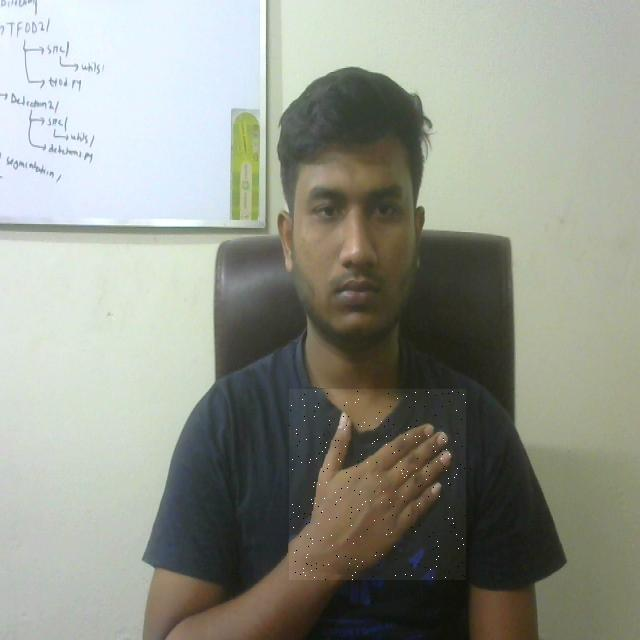Please: (289, 389, 466, 580)
